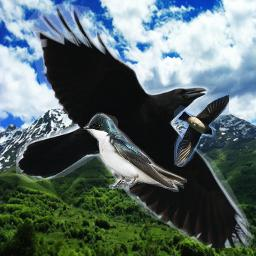Crow: (16, 2, 254, 248)
Swallow: (83, 112, 187, 192), (174, 93, 229, 167)
